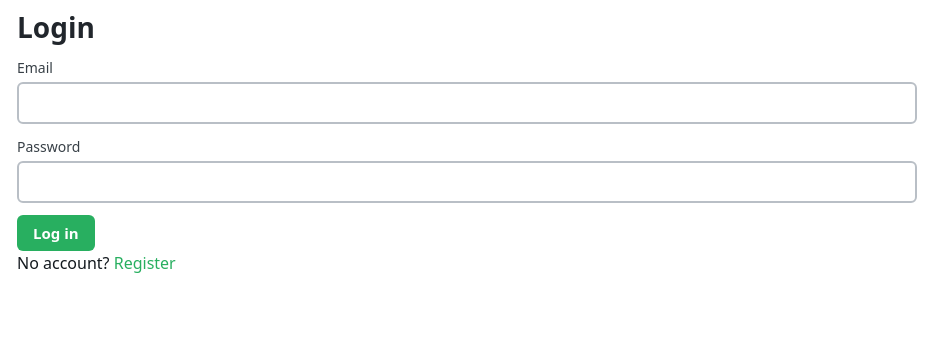
Login Page › shows error message on failed login
The width and height of the screenshot is (934, 342).
Type "test@example.com" into the field.
click(467, 103); type("test@example.com")  # box [17, 82, 917, 124]
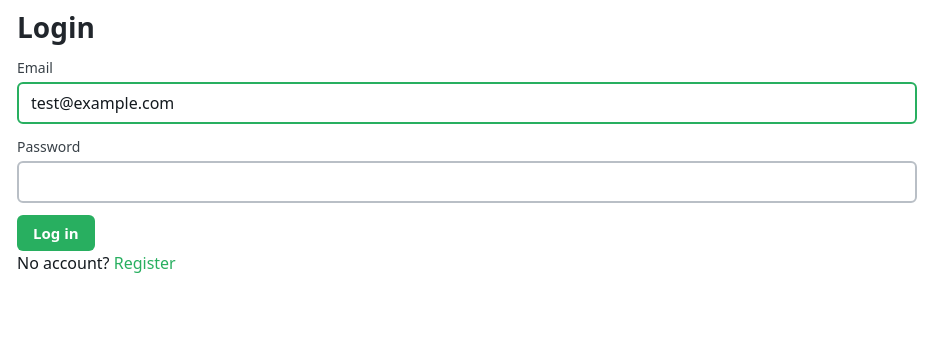
Click the button "Log in".
click(56, 233)  # box [17, 215, 95, 251]
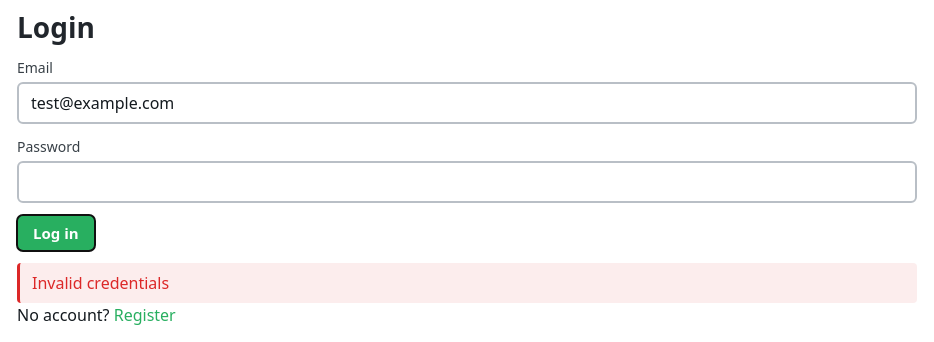
Result: the text "Invalid credentials" is shown at [17, 263, 917, 303]
